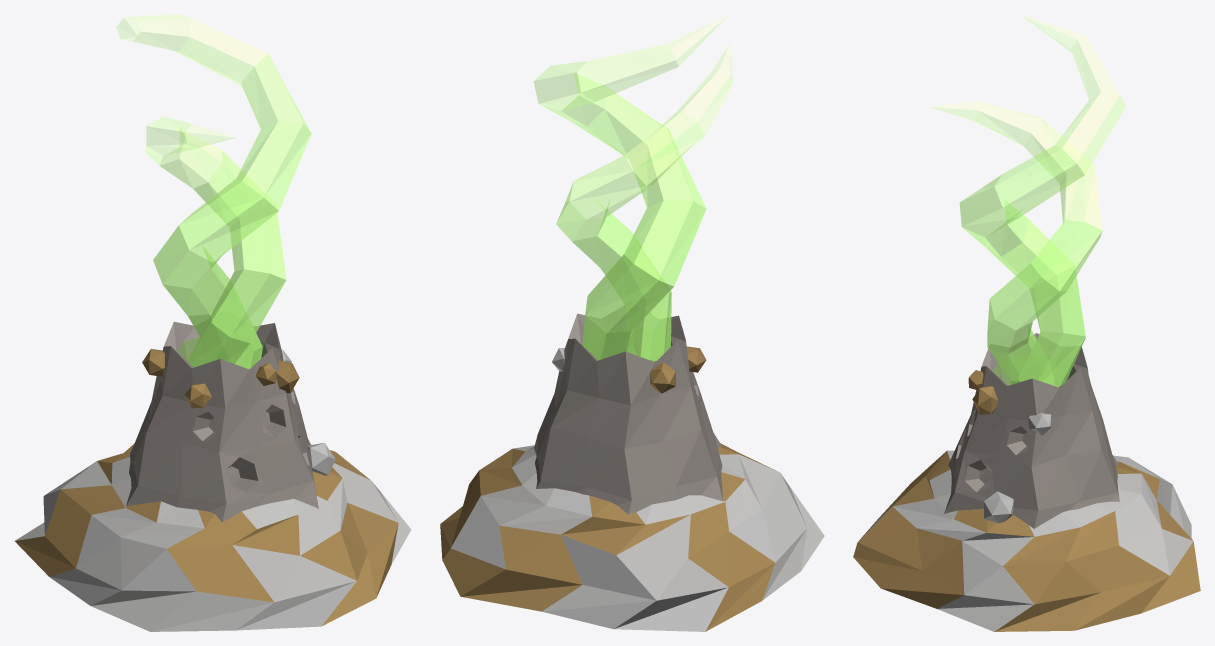
The model's file is toxic_gas_vent.glb.
3 views of the same model, side by side, from view 1: azimuth 30°, elevation 25°; view 2: azimuth 150°, elevation 25°; view 3: azimuth 270°, elevation 25° (orthographic). The views are drawn at different scales.
Parts seen in each view (by area): view 1: vent-mound, gas-strands; view 2: vent-mound, gas-strands; view 3: vent-mound, gas-strands.
Part boxes in pixels (x1=…): vent-mound: x1=15, y1=321, x2=411, y2=631; gas-strands: x1=116, y1=14, x2=311, y2=369; vent-mound: x1=440, y1=305, x2=824, y2=631; gas-strands: x1=534, y1=15, x2=732, y2=361; vent-mound: x1=853, y1=333, x2=1200, y2=631; gas-strands: x1=930, y1=14, x2=1126, y2=387.
Bounding box in the file's own units: 1.53 × 2.5 × 1.57.
